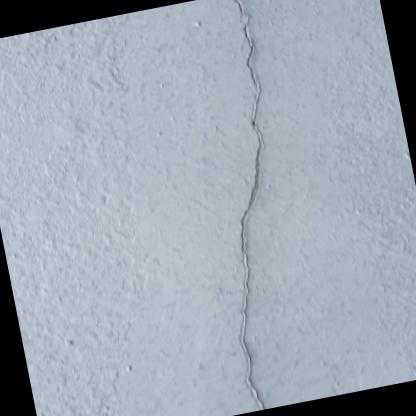crack: (239, 92, 264, 410), (235, 0, 257, 90)
